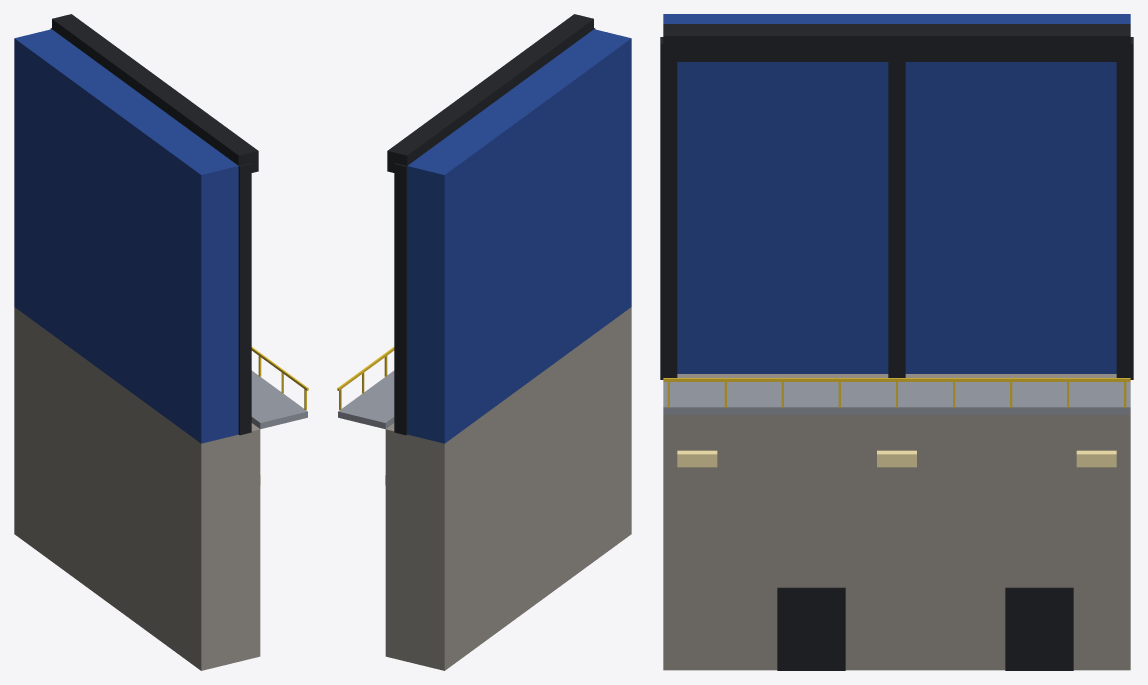
The model's file is elt_muro_pilar.obj.
The picture shows the model from 3 angles, left to right: view 1: azimuth 30°, elevation 25°; view 2: azimuth 150°, elevation 25°; view 3: azimuth 270°, elevation 25°; orthographic projection. The views are drawn at different scales.
Visible parts, largest first — view 1: elt_muro_pilar; view 2: elt_muro_pilar; view 3: elt_muro_pilar.
Part boxes in pixels (x1,y1,x2,y2): elt_muro_pilar: (14,14,308,670); elt_muro_pilar: (337,14,631,670); elt_muro_pilar: (660,14,1133,670).
Size of the model in its own units: 5.44 by 24.5 by 16.6.
